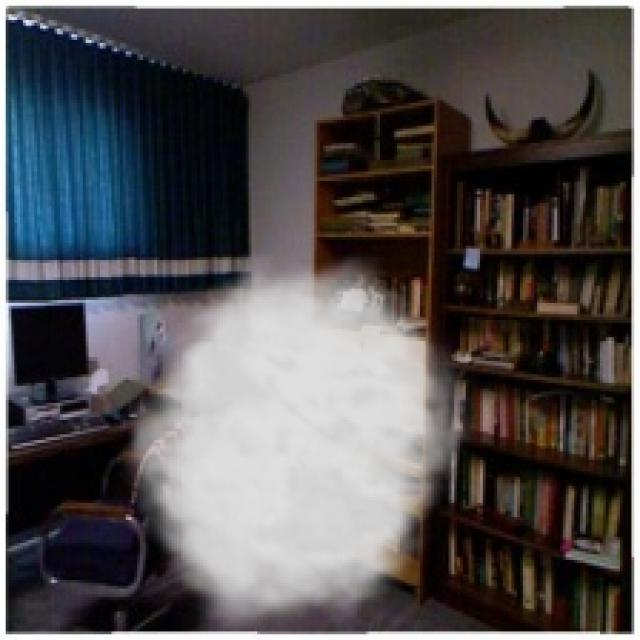Smoke: (117, 252, 483, 637)
